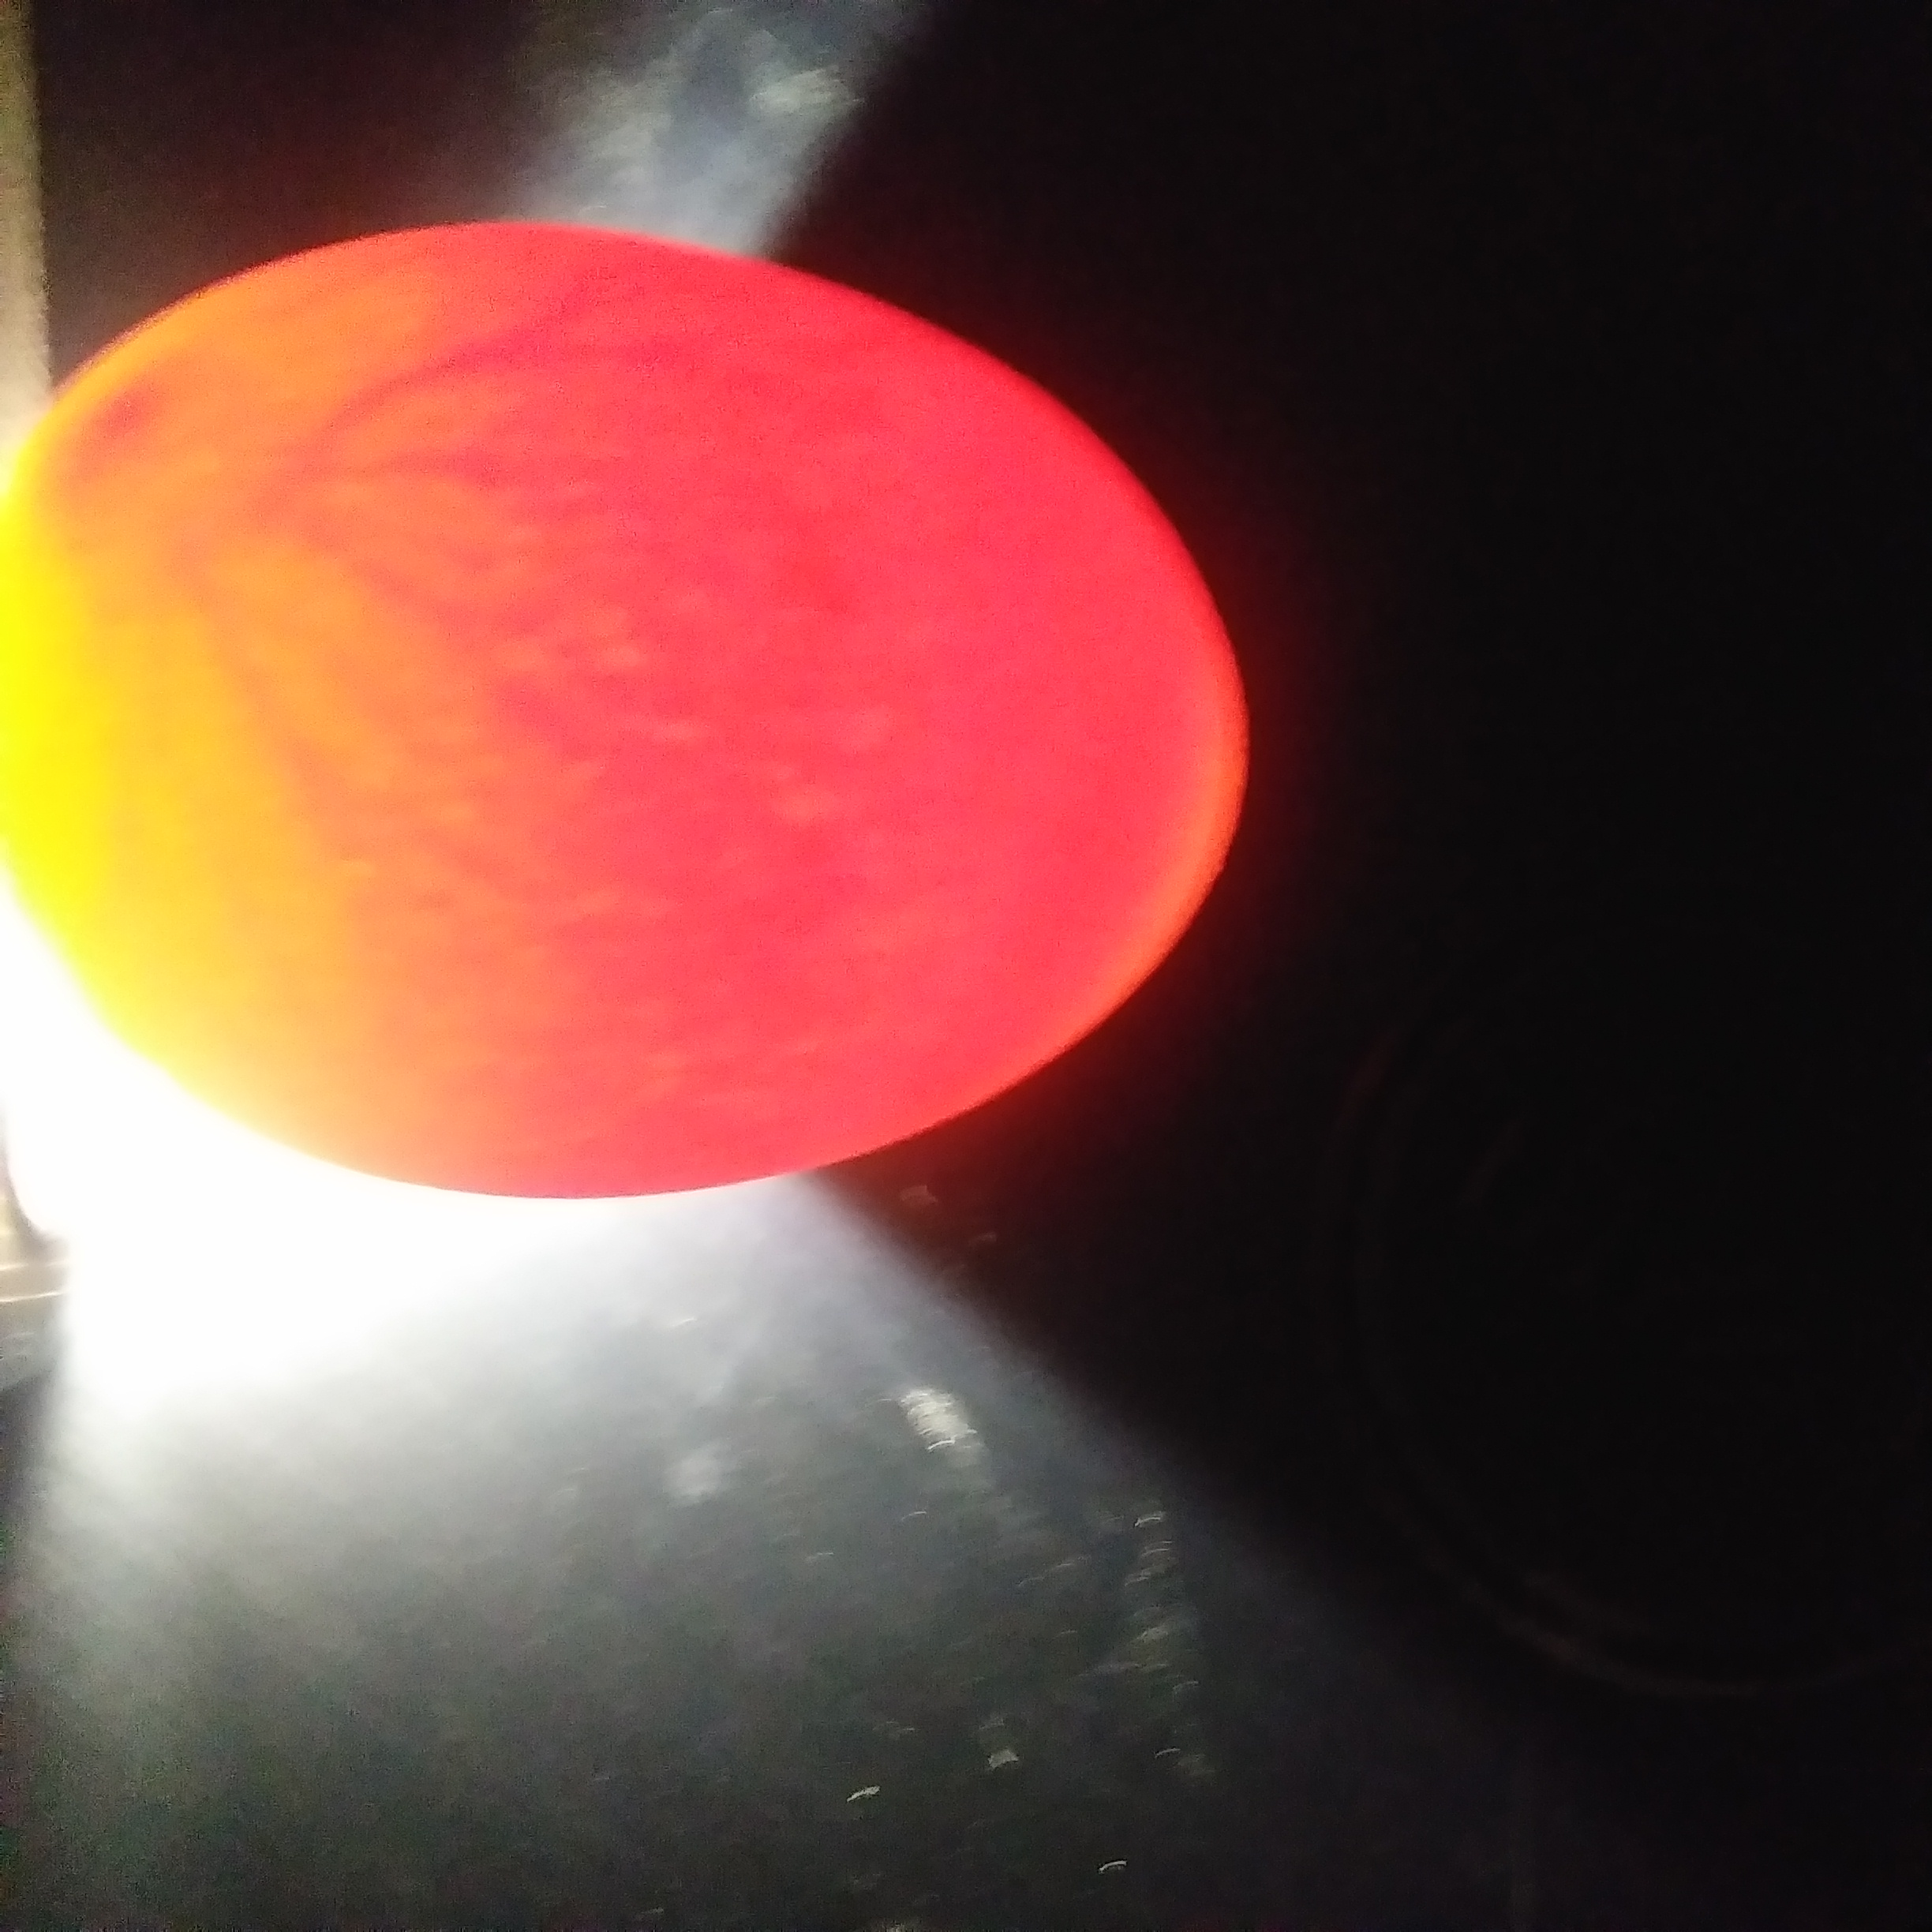bloodcell: (244, 299, 678, 863), (57, 541, 226, 713)
embryo: (44, 382, 189, 492)
